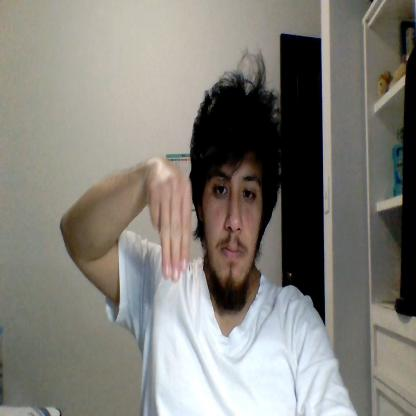M: (150, 158, 192, 282)
